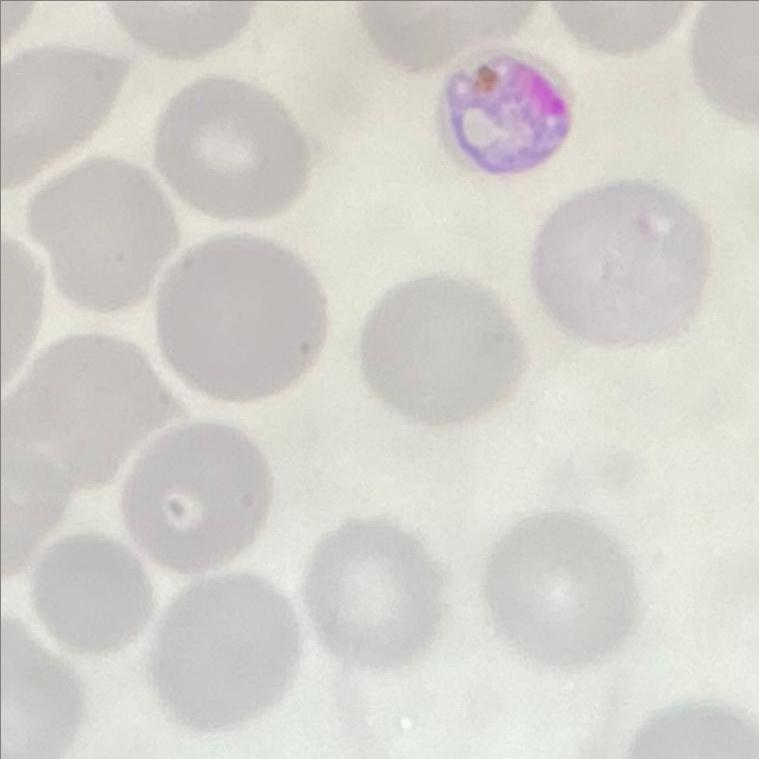Infected: (428, 49, 575, 184)
Uninfected: (534, 181, 709, 352), (154, 237, 332, 394), (0, 337, 172, 497), (362, 273, 532, 426), (484, 509, 636, 677), (24, 159, 180, 309), (152, 79, 309, 225), (126, 425, 273, 580), (148, 583, 304, 728), (308, 513, 440, 671), (0, 45, 128, 184), (30, 529, 155, 656)
